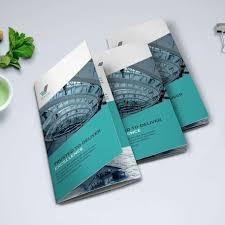paper: (35, 19, 208, 204)
